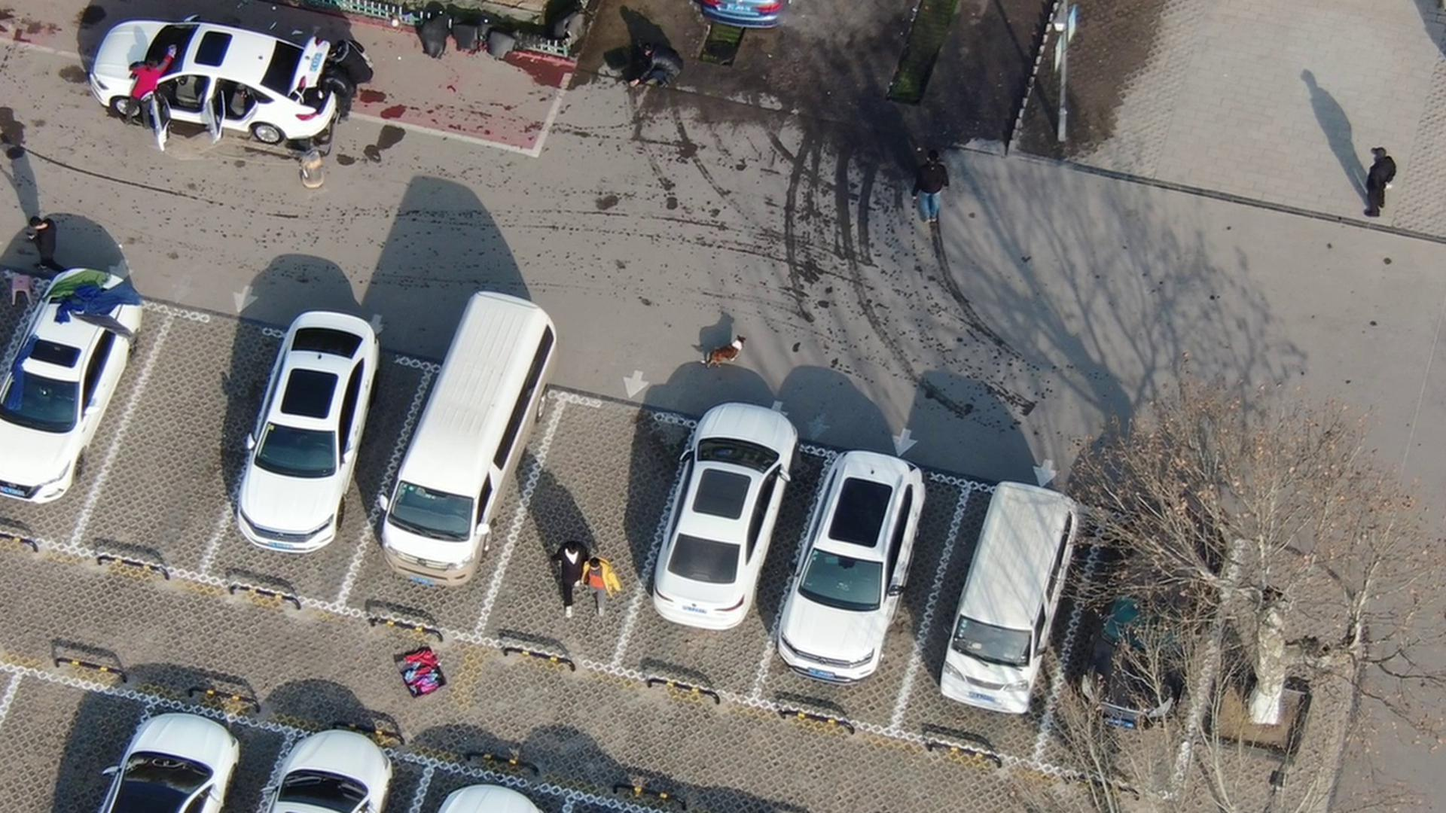class_2: (325, 32, 386, 125)
human: (633, 33, 703, 92), (917, 147, 958, 228), (134, 56, 174, 133), (557, 532, 592, 606), (584, 551, 618, 622), (40, 218, 77, 281)
